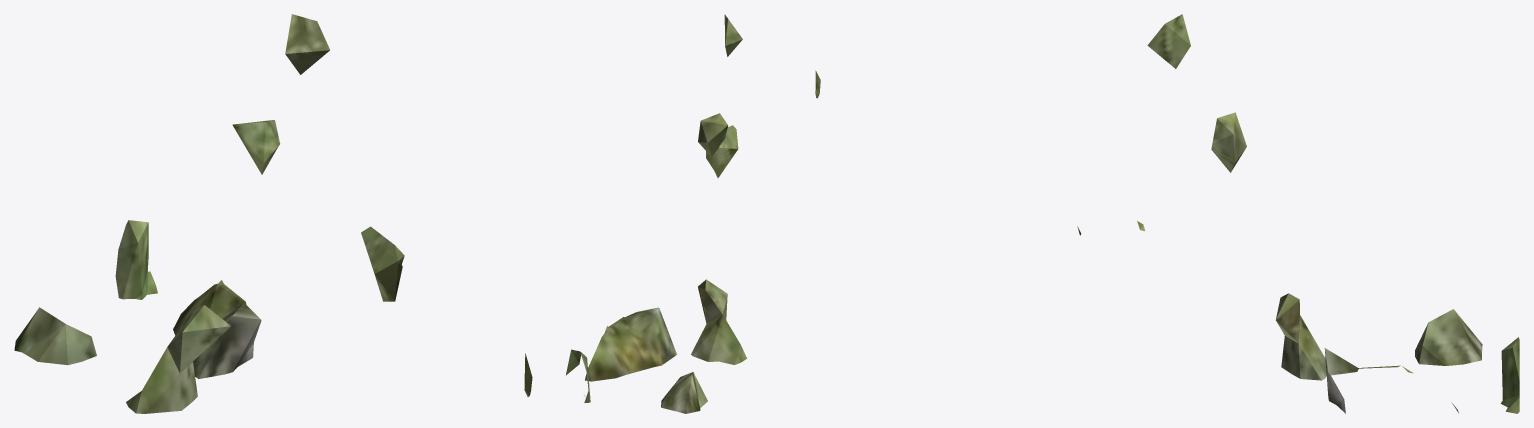
3 views of the same model, side by side, from view 1: azimuth 30°, elevation 25°; view 2: azimuth 150°, elevation 25°; view 3: azimuth 270°, elevation 25° (orthographic). The views are drawn at different scales.
Bounding box in the file's own units: 0.3989 × 0.9427 × 1.52.
1 material, 1 textured.
